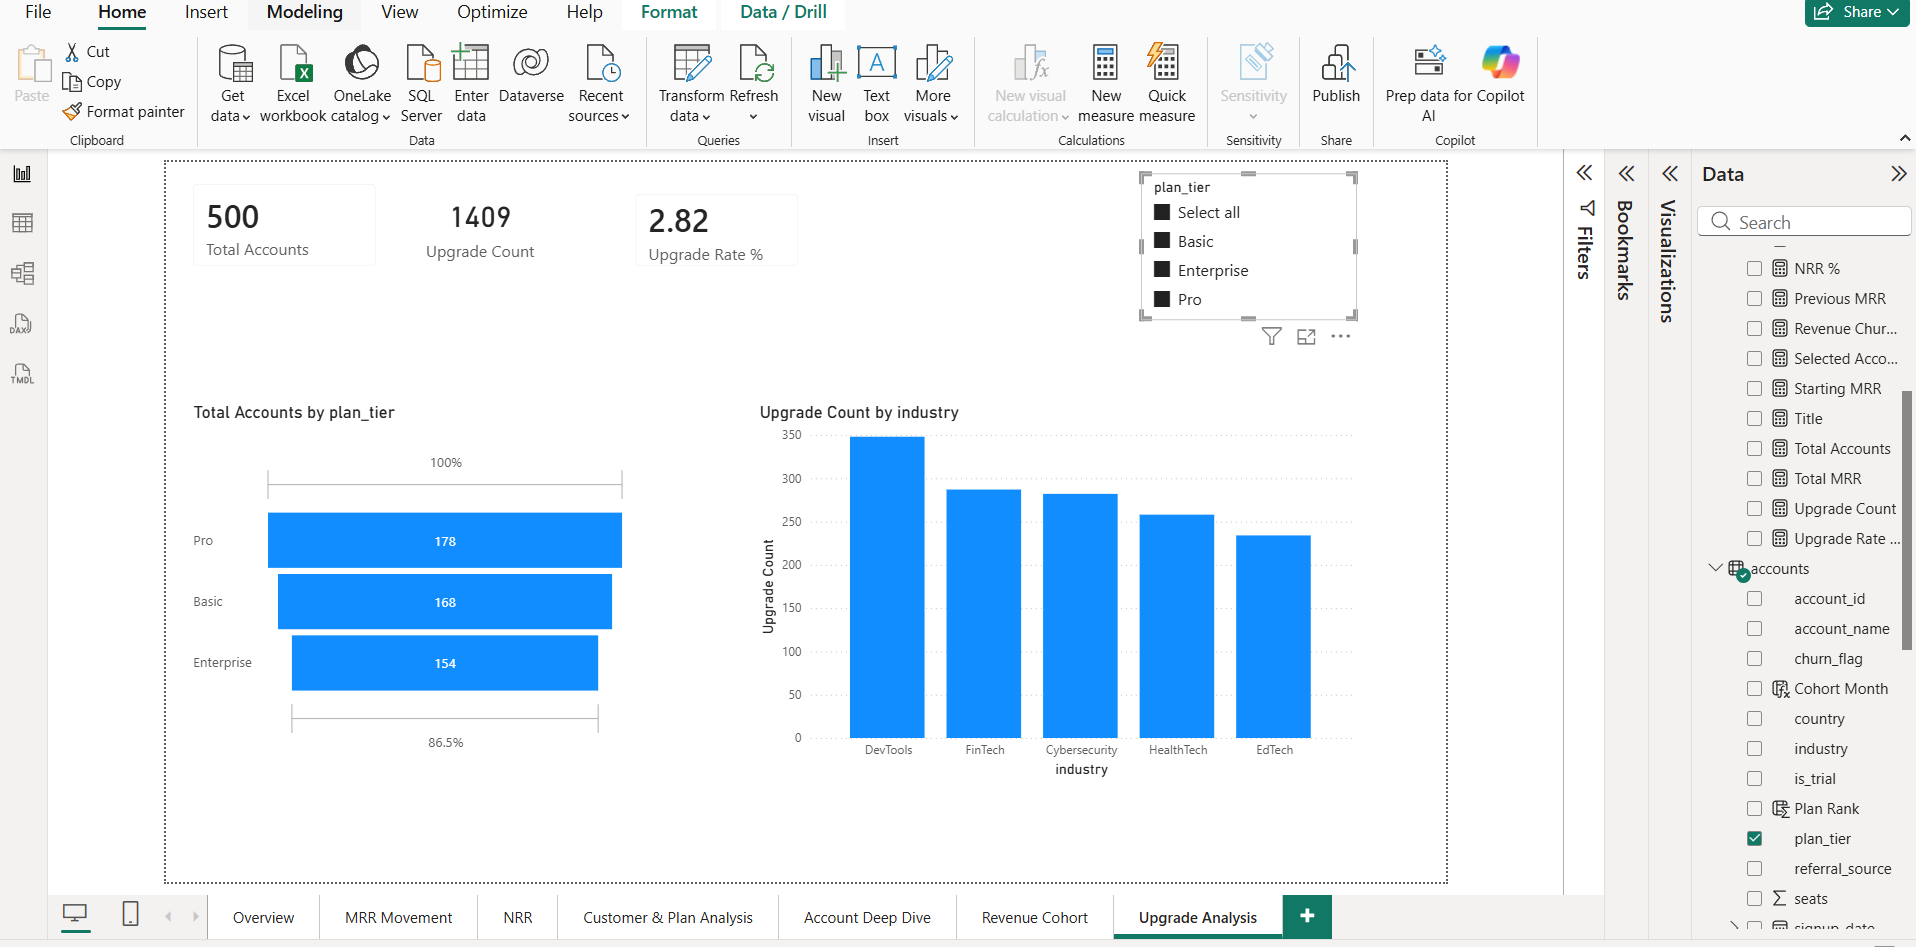

The dashboard page shown, as its layout file describes it:
{"tool":"powerbi","page":{"name":"Upgrade Analysis","canvas":[1280,720],"ordinal":6},"visuals":[{"type":"cardVisual","fields":{"Data":["Measures Table.Total Accounts"]},"box":[10,5,217.5,116.2],"z":0},{"type":"card","fields":{"Values":["Measures Table.Upgrade Count"]},"box":[217.5,11.2,193.8,106.2],"z":1},{"type":"cardVisual","fields":{"Data":["Measures Table.Upgrade Rate %"]},"box":[452.5,15,197.5,106.2],"z":2},{"type":"funnel","fields":{"Category":["accounts.plan_tier"],"Y":["Measures Table.Total Accounts"]},"box":[22.5,240,443.8,380],"z":3},{"type":"clusteredColumnChart","fields":{"Category":["accounts.industry"],"Y":["Measures Table.Upgrade Count"]},"box":[588.8,240,602.5,380],"z":4},{"type":"slicer","fields":{"Values":["accounts.plan_tier"]},"box":[975,11.2,216.2,147.5],"z":5}]}

Visuals, with their boxes on the page's 1280x720 design canvas (x1, y1, x2, y2). These are canvas units, not pixel positions in the 1916x947 screenshot, which may show the page scaled, cropped or inside an application window:
cardVisual - Measures Table.Total Accounts: locate(10, 5, 228, 121)
card - Measures Table.Upgrade Count: locate(218, 11, 411, 117)
cardVisual - Measures Table.Upgrade Rate %: locate(452, 15, 650, 121)
funnel - accounts.plan_tier x Measures Table.Total Accounts: locate(22, 240, 466, 620)
clusteredColumnChart - accounts.industry x Measures Table.Upgrade Count: locate(589, 240, 1191, 620)
slicer - accounts.plan_tier: locate(975, 11, 1191, 159)
